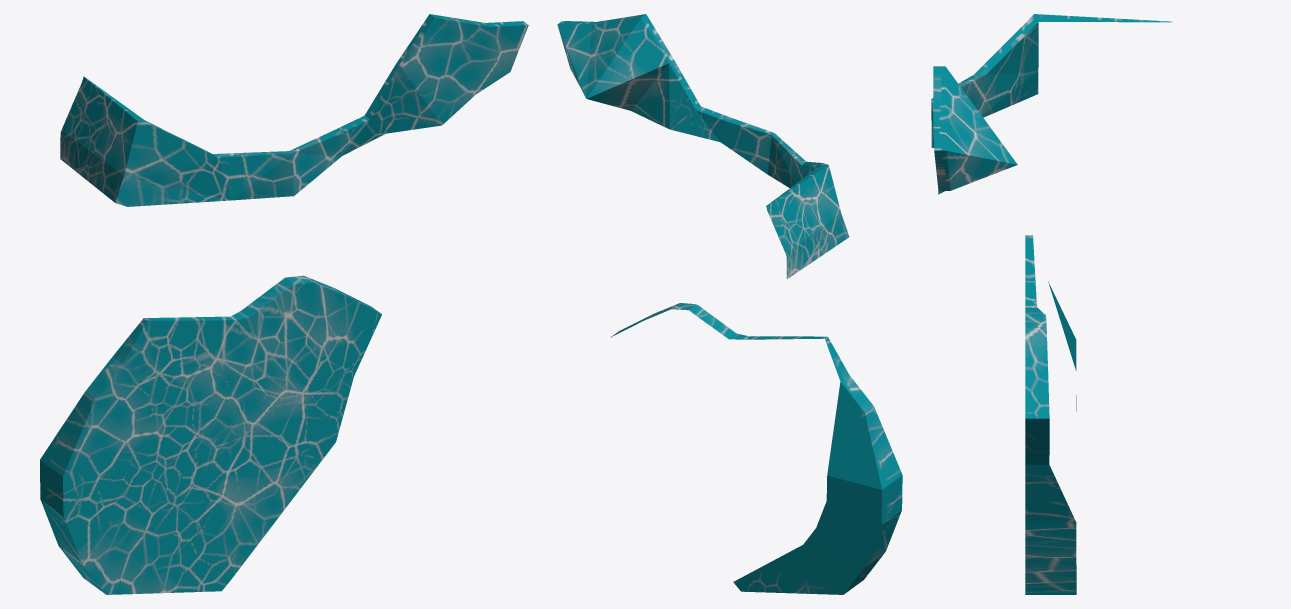
Rendered from water.gltf.
3 renders of one model, left to right at view 1: azimuth 30°, elevation 25°; view 2: azimuth 150°, elevation 25°; view 3: azimuth 270°, elevation 25°, orthographic. The views are drawn at different scales.
Visible parts, largest first — view 1: 水:1; view 2: 水:1; view 3: 水:1.
Boxes of the visible parts, x1,y1,x2,y2 form: 水:1: (40, 14, 528, 594); 水:1: (557, 14, 902, 594); 水:1: (931, 14, 1171, 594).
Size of the model in its own units: 1.11 by 1.41 by 0.7085.
1 material, 1 textured.
